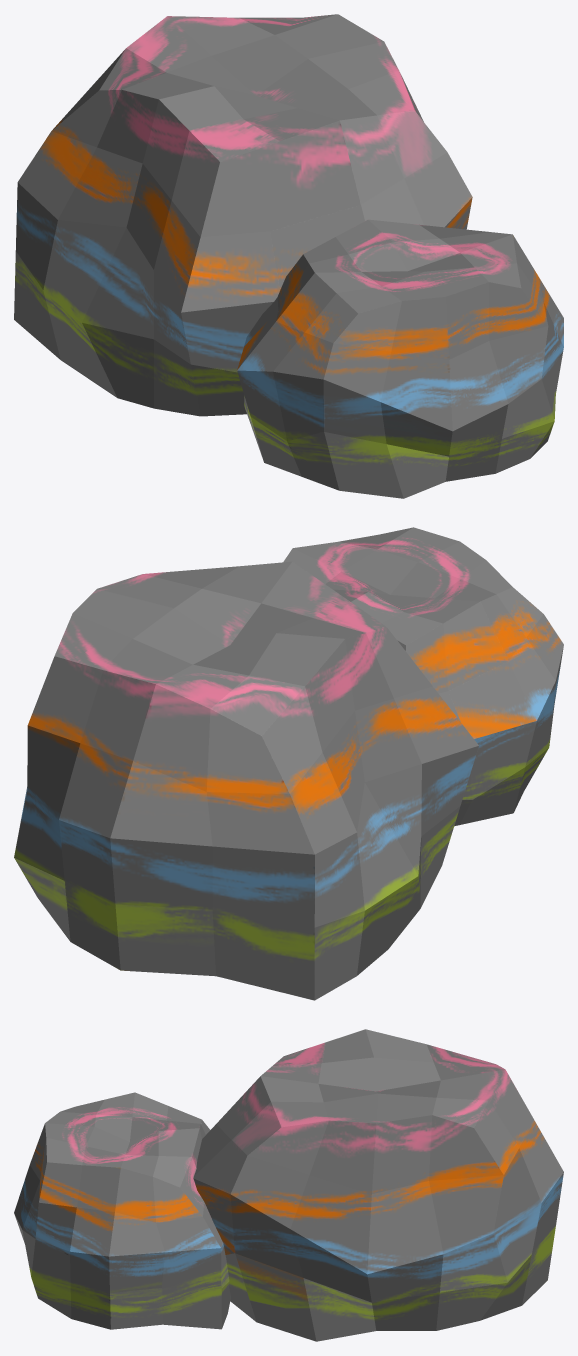
Rendered from ROCAA 01.fbx.
The picture shows the model from 3 angles, top to bottom: view 1: azimuth 30°, elevation 25°; view 2: azimuth 150°, elevation 25°; view 3: azimuth 270°, elevation 25°; orthographic projection. The views are drawn at different scales.
Parts seen in each view (by area): view 1: Cube.026; view 2: Cube.026; view 3: Cube.026.
Boxes of the visible parts, x1=… form: Cube.026: x1=14, y1=14, x2=563, y2=498; Cube.026: x1=14, y1=527, x2=563, y2=1000; Cube.026: x1=14, y1=1029, x2=563, y2=1341.
Bounding box in the file's own units: 259 × 202 × 432.
1 material, 1 textured.
